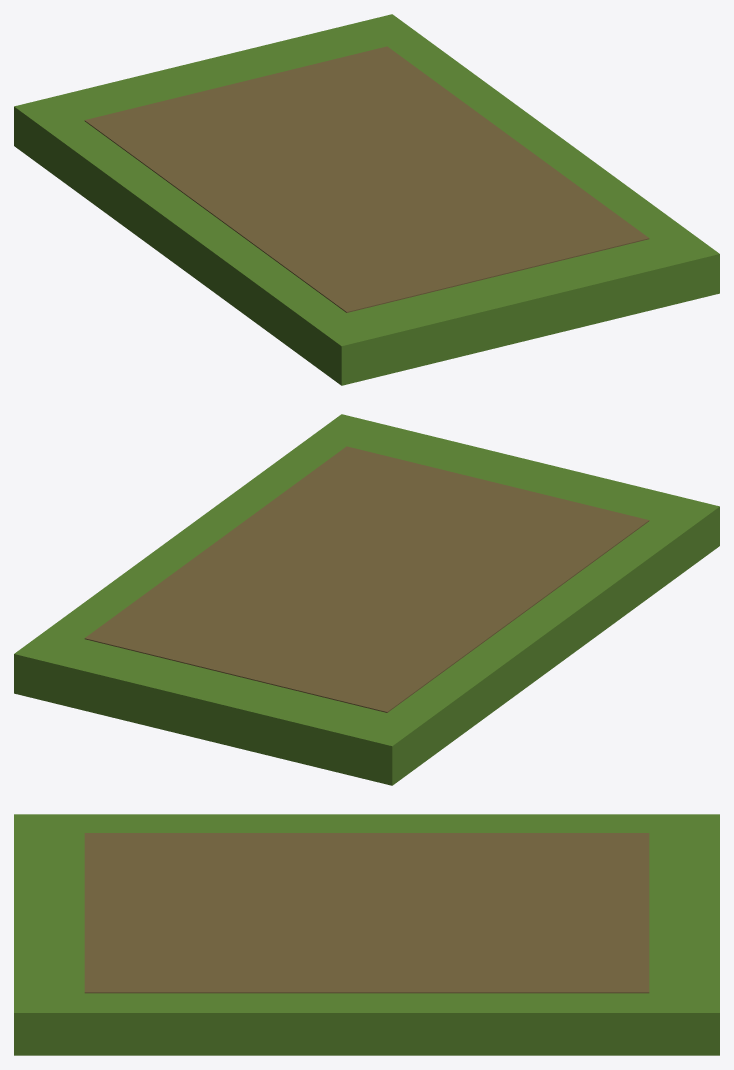
File: Grille_test.fbx
3 views of the same model, one above another, from view 1: azimuth 30°, elevation 25°; view 2: azimuth 150°, elevation 25°; view 3: azimuth 270°, elevation 25° (orthographic). The views are drawn at different scales.
Parts seen in each view (by area): view 1: Grille, Cube; view 2: Grille, Cube; view 3: Grille, Cube.
Boxes of the visible parts, x1,y1,x2,y2 form: Grille: [84, 46, 649, 312]; Cube: [14, 14, 719, 385]; Grille: [84, 446, 649, 712]; Cube: [14, 414, 719, 785]; Grille: [84, 833, 649, 993]; Cube: [14, 814, 719, 1055].
Bounding box in the file's own units: 1000 × 103 × 1500.
